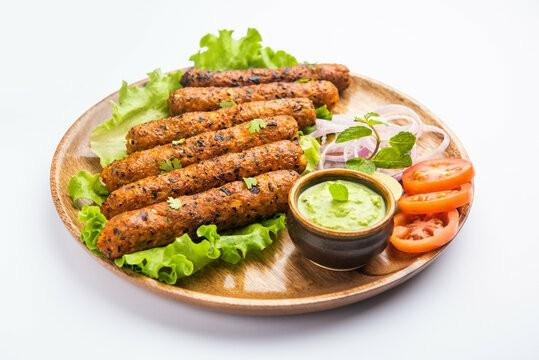GreenChutney: (297, 181, 385, 231)
Kebab: (97, 169, 301, 257), (102, 139, 306, 219), (100, 116, 300, 189), (125, 96, 316, 152), (169, 81, 337, 110), (182, 63, 350, 87)
